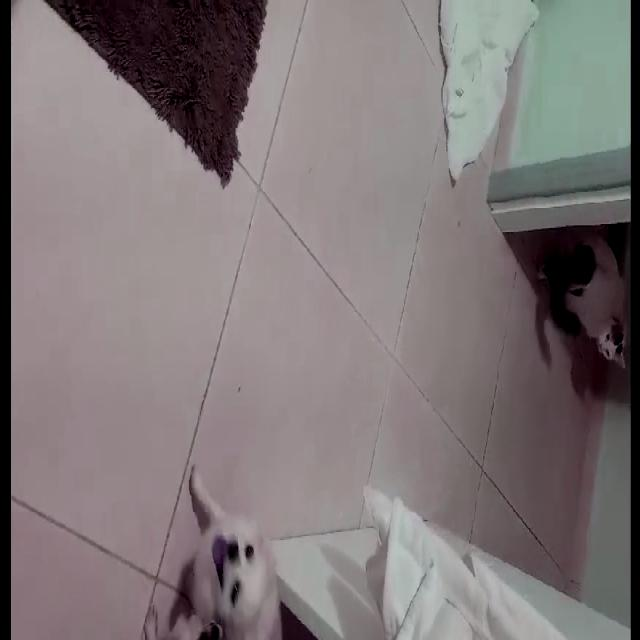Simba: (530, 232, 628, 382)
Theo: (130, 450, 305, 638)
